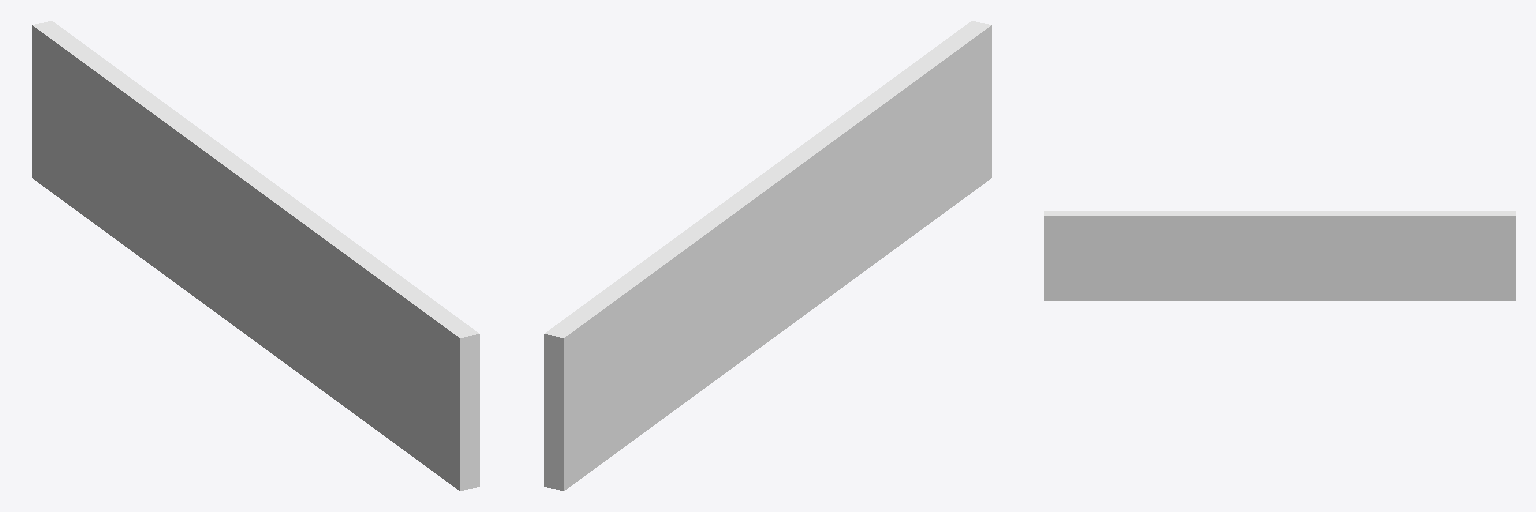
URDF robot description (drawer_leftwall):
<?xml version="1.0" ?>
<robot name="drawer_leftwall">
 <link name="baseLink">
   <contact>
     <lateral_friction value="0.5"/>
   </contact>
   <inertial>
     <origin rpy="0 0 0" xyz="0.36 0.4 0.625"/>
      <mass value="1.0"/>
      <inertia ixx="0.000114" ixy="-0.000000" ixz="-0.000000" iyy="0.000004" iyz="0.000000" izz="0.000110"/>
   </inertial>
   <visual>
     <origin rpy="0 0 0" xyz="0 0 0"/>
     <geometry>
       <mesh filename="drawer_leftwall.obj" scale="1.0 1.0 1.0"/>
     </geometry>
      <material name="white">
       <color rgba="1 1 1 1"/>
     </material>
   </visual>
   <collision>
     <origin rpy="0 0 0" xyz="0 0 0"/>
     <geometry>
       <mesh filename="drawer_leftwall.obj" scale="1.0 1.0 1.0"/>
     </geometry>
   </collision>
 </link>
</robot>

--- What the picture shows (computed from the rendered views, not written in the file) ---
The picture shows the robot from 3 angles, left to right: view 1: azimuth 30°, elevation 25°; view 2: azimuth 150°, elevation 25°; view 3: azimuth 270°, elevation 25°; orthographic projection.
Robot: drawer_leftwall — 1 links, 0 joints (none); root link baseLink; default pose: every joint at zero.
Visible links, largest first — view 1: baseLink; view 2: baseLink; view 3: baseLink.
Boxes of the visible links, x1,y1,x2,y2 form: baseLink: [32, 21, 479, 490]; baseLink: [544, 21, 991, 490]; baseLink: [1044, 211, 1515, 300].
Bounding box of the posed robot: 0.02 × 0.76 × 0.15 m (x, y, z).
Meshes: 1 distinct files referenced, 1 mesh visuals loaded (1 OBJ).